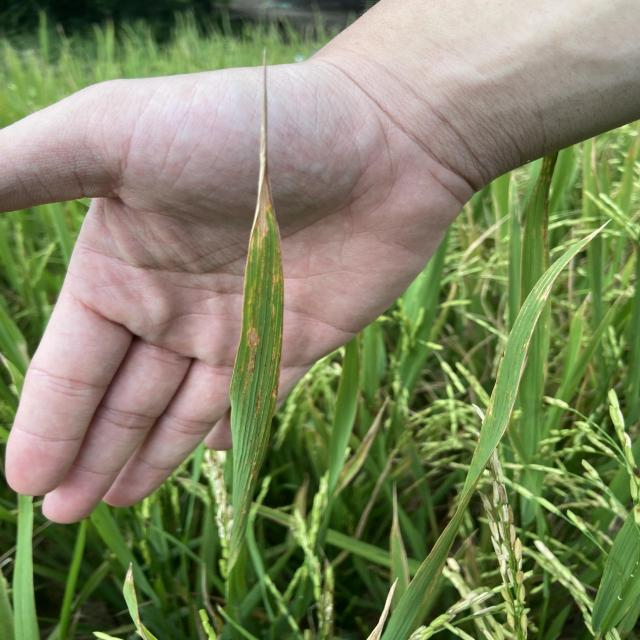Dom soc vi khuan: (242, 318, 260, 405), (270, 333, 283, 398), (272, 260, 280, 295), (258, 259, 264, 296), (269, 346, 276, 376), (255, 391, 262, 415), (247, 288, 253, 305), (271, 304, 275, 319)
